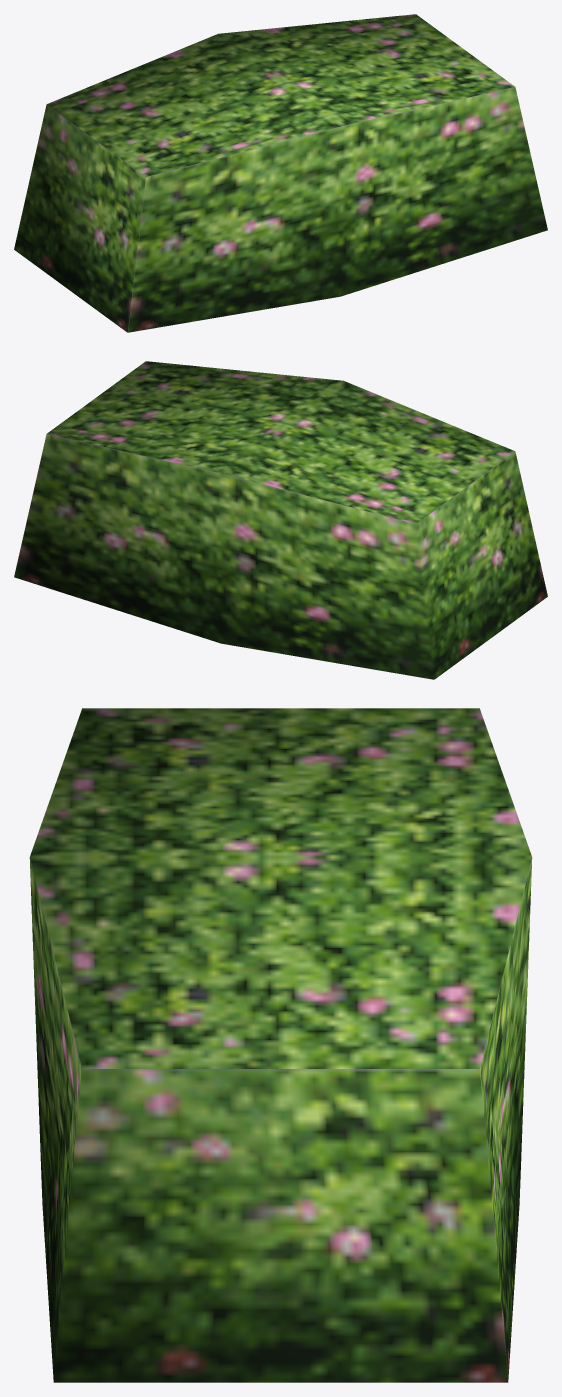
The model's file is SC_guowangchengbao_21.FBX.
3 renders of one model, top to bottom at view 1: azimuth 30°, elevation 25°; view 2: azimuth 150°, elevation 25°; view 3: azimuth 270°, elevation 25°, orthographic. The views are drawn at different scales.
Visible parts, largest first — view 1: SC_guowangchengbao_21; view 2: SC_guowangchengbao_21; view 3: SC_guowangchengbao_21.
Boxes of the visible parts, x1,y1,x2,y2 form: SC_guowangchengbao_21: [14, 14, 547, 332]; SC_guowangchengbao_21: [14, 361, 547, 679]; SC_guowangchengbao_21: [29, 708, 532, 1382].
Size of the model in its own units: 295 by 116 by 153.
